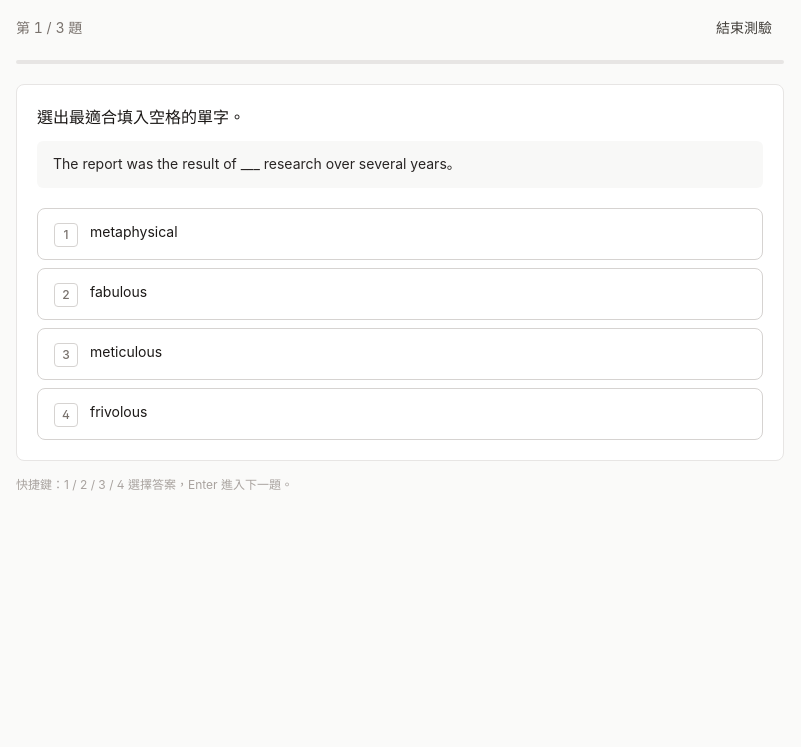
Test: QuizRunner › advances to the next question via the button
This screenshot has width=801, height=747.
Click the text "metaphysical" at (134, 231), box top-left (90, 223), bottom-right (178, 240)
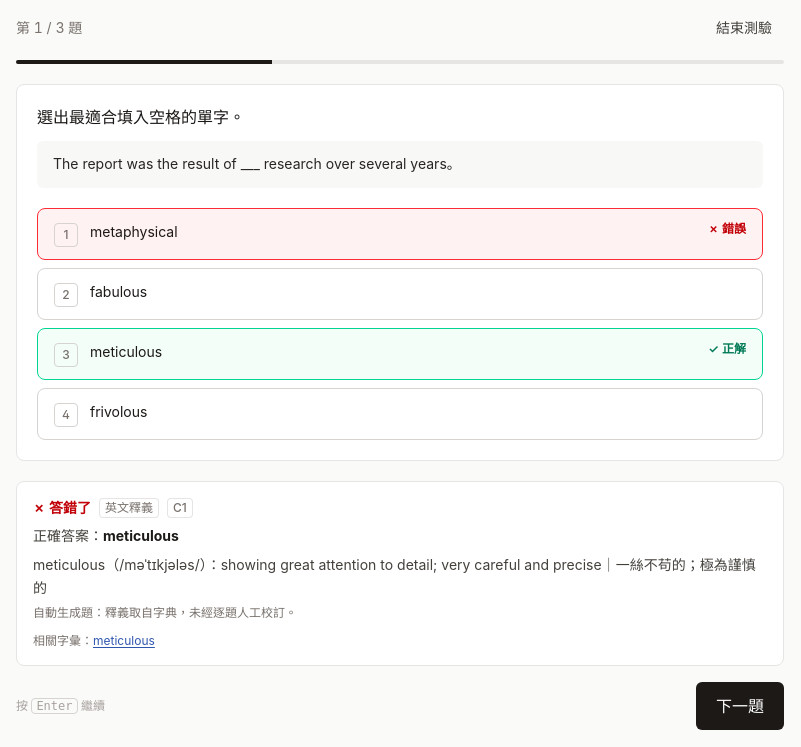
Click the button "下一題" at (740, 706), box top-left (696, 682), bottom-right (784, 730)
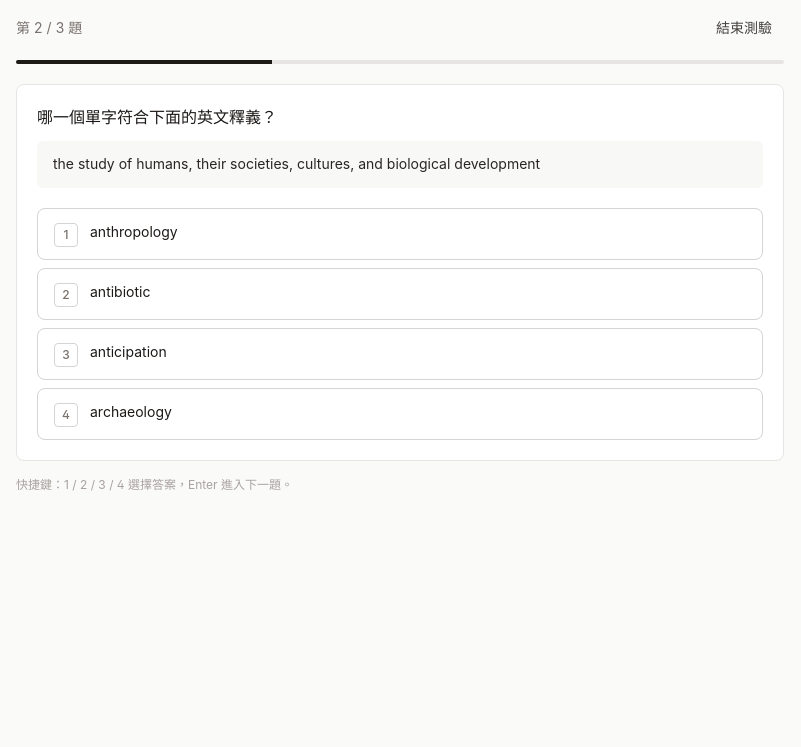
Check: the text "第 2 / 3 題" is shown, box top-left (16, 18), bottom-right (82, 38)
Check: the heading "哪一個單字符合下面的英文釋義？" is shown, box top-left (37, 107), bottom-right (277, 127)
